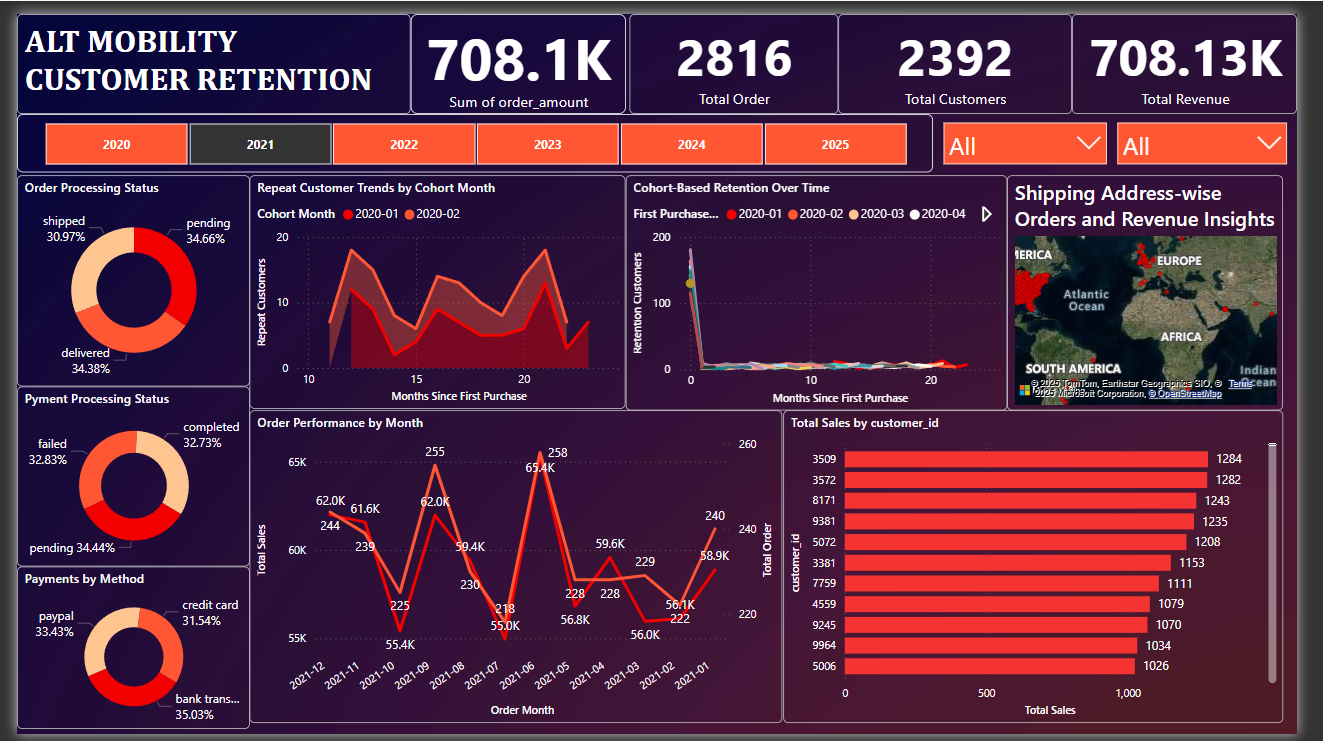

Layout of this report page (visuals, bound fields, positions):
{"tool":"powerbi","page":{"name":"Page 1","canvas":[1280,720],"ordinal":0},"visuals":[{"type":"textbox","box":[0,0,393.8,100],"z":0},{"type":"donutChart","title":"Order Processing Status","fields":{"Category":["alt_mobility customer_orders.order_status"],"Y":["CountNonNull(alt_mobility customer_orders.order_status)"]},"box":[0,161.2,232.5,211.2],"z":1000},{"type":"card","fields":{"Values":["alt_mobility customer_orders.Total Order"]},"box":[612.5,0,208.8,100],"z":2000},{"type":"card","fields":{"Values":["alt_mobility customer_orders.Total Revenue"]},"box":[1055,0,225,100],"z":3000},{"type":"card","fields":{"Values":["alt_mobility customer_orders.Total Customers"]},"box":[821.2,0,233.8,100],"z":4000},{"type":"stackedAreaChart","title":"Repeat Customer Trends by Cohort Month","fields":{"Category":["alt_mobility customer_orders.Months Since First Purchase"],"Y":["alt_mobility customer_orders.Repeat Customers"],"Series":["alt_mobility customer_orders.Cohort Month"]},"box":[232.5,161.2,376.2,233.8],"z":5000},{"type":"donutChart","title":"Pyment Processing Status","fields":{"Category":["alt_mobility payments.payment_status"],"Y":["CountNonNull(alt_mobility payments.payment_status)"]},"box":[0,372.5,232.5,180],"z":6000},{"type":"map","title":"Shipping Address-wise Orders and Revenue Insights","fields":{"Category":["alt_mobility customer_orders.shipping_address"],"Size":["CountNonNull(alt_mobility customer_orders.order_id)"]},"box":[990,160.9,276.4,235.5],"z":7000},{"type":"donutChart","title":"Payments by Method","fields":{"Category":["alt_mobility payments.payment_method"],"Y":["CountNonNull(alt_mobility payments.payment_method)"]},"box":[0,552.5,232.5,162.5],"z":8000},{"type":"lineChart","title":"Order Performance by Month","fields":{"Category":["alt_mobility customer_orders.Order Month"],"Y":["alt_mobility customer_orders.Total Sales"],"Y2":["alt_mobility customer_orders.Total Order"]},"box":[232.9,395.7,532.9,312.9],"z":9000},{"type":"clusteredBarChart","fields":{"Category":["alt_mobility customer_orders.customer_id"],"Y":["alt_mobility customer_orders.Total Sales"]},"box":[765.7,395.7,500,312.9],"z":10000},{"type":"lineChart","title":"Cohort-Based Retention Over Time","fields":{"Category":["alt_mobility customer_orders.Months Since First Purchase"],"Series":["alt_mobility customer_orders.First Purchase Month"],"Y":["alt_mobility customer_orders.Retention Customers"]},"box":[608.8,161.2,381.2,235],"z":11000},{"type":"card","title":"Total Order_Amount","fields":{"Values":["Sum(alt_mobility customer_orders.order_amount)"]},"box":[393.8,0,215,100],"z":11001},{"type":"slicer","fields":{"Values":["alt_mobility customer_orders.order_date (bins)"]},"box":[0,100,916.2,58.8],"z":11002},{"type":"slicer","fields":{"Values":["alt_mobility customer_orders.order_status"]},"box":[916.4,86.4,183.6,72.7],"z":11003},{"type":"slicer","fields":{"Values":["alt_mobility payments.payment_status"]},"box":[1090,86.4,190,90.9],"z":11004}]}

Visuals, with their boxes in screenshot pixels (x1, y1, x2, y2), scaled from the page's 1280x720 canvas onto the 1323x741 screenshot:
textbox: [0, 0, 407, 103]
"Order Processing Status" donutChart: [0, 166, 240, 383]
card - alt_mobility customer_orders.Total Order: [633, 0, 849, 103]
card - alt_mobility customer_orders.Total Revenue: [1090, 0, 1322, 103]
card - alt_mobility customer_orders.Total Customers: [849, 0, 1090, 103]
"Repeat Customer Trends by Cohort Month" stackedAreaChart: [240, 166, 629, 407]
"Pyment Processing Status" donutChart: [0, 383, 240, 569]
"Shipping Address-wise Orders and Revenue Insights" map: [1023, 166, 1309, 408]
"Payments by Method" donutChart: [0, 569, 240, 736]
"Order Performance by Month" lineChart: [241, 407, 792, 729]
clusteredBarChart - alt_mobility customer_orders.customer_id x alt_mobility customer_orders.Total Sales: [791, 407, 1308, 729]
"Cohort-Based Retention Over Time" lineChart: [629, 166, 1023, 408]
"Total Order_Amount" card: [407, 0, 629, 103]
slicer - alt_mobility customer_orders.order_date (bins): [0, 103, 947, 163]
slicer - alt_mobility customer_orders.order_status: [947, 89, 1137, 164]
slicer - alt_mobility payments.payment_status: [1127, 89, 1322, 182]
